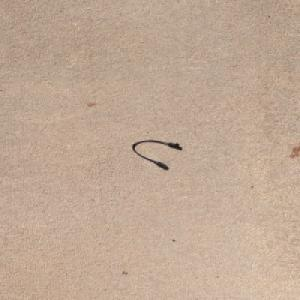Wire: (131, 139, 180, 168)
